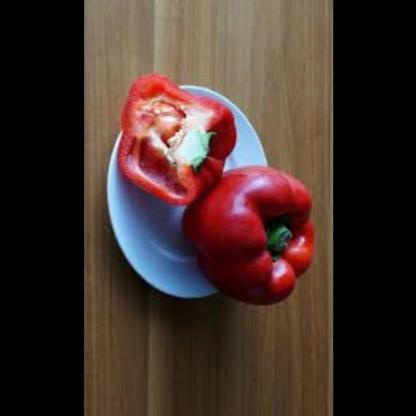bell pepper: (190, 161, 324, 307), (119, 74, 240, 204)
